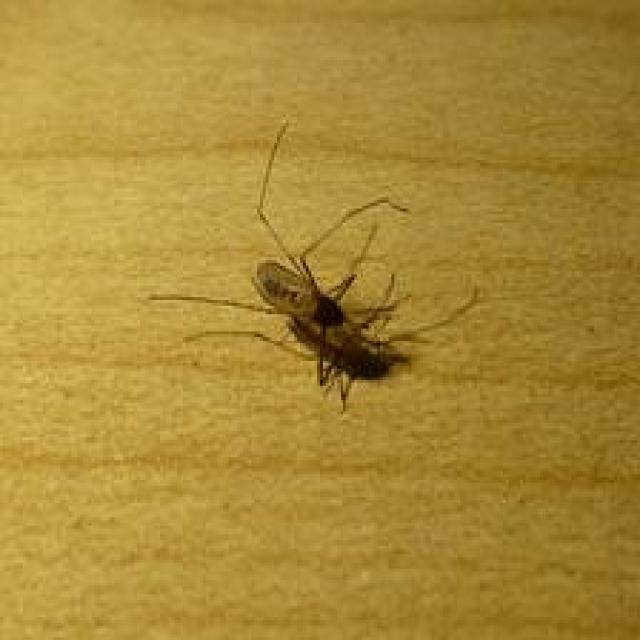Culex: (146, 117, 483, 414)
